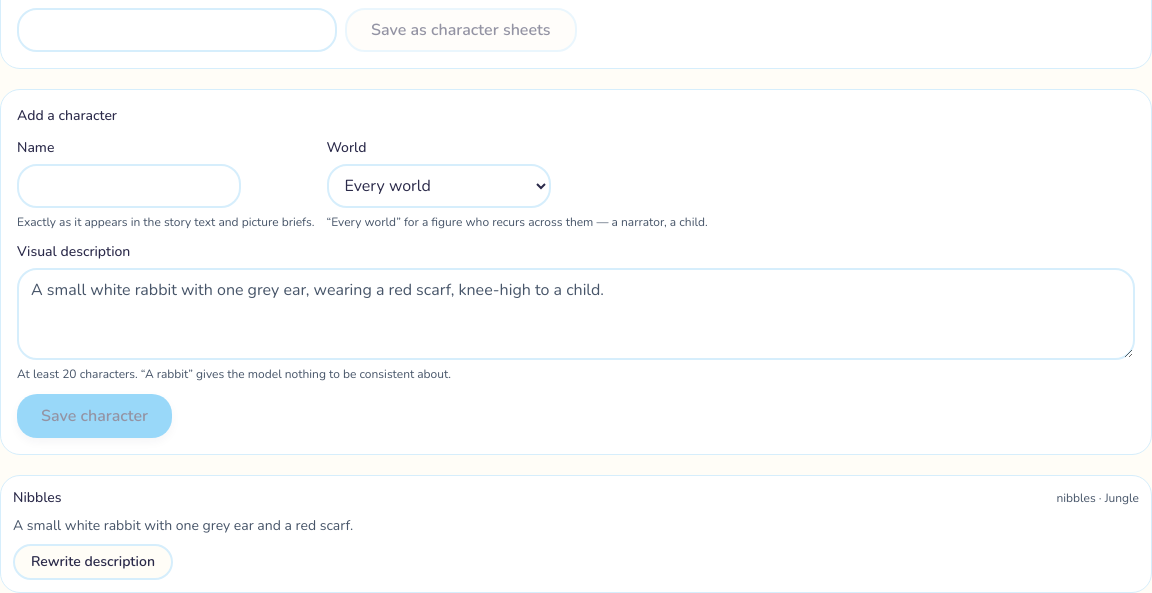
rewriting a description › warns that pictures already drawn keep the old look
(page scrolled)
Click the button "Rewrite description". click: (93, 562)
box: [13, 544, 173, 580]
(page scrolled)
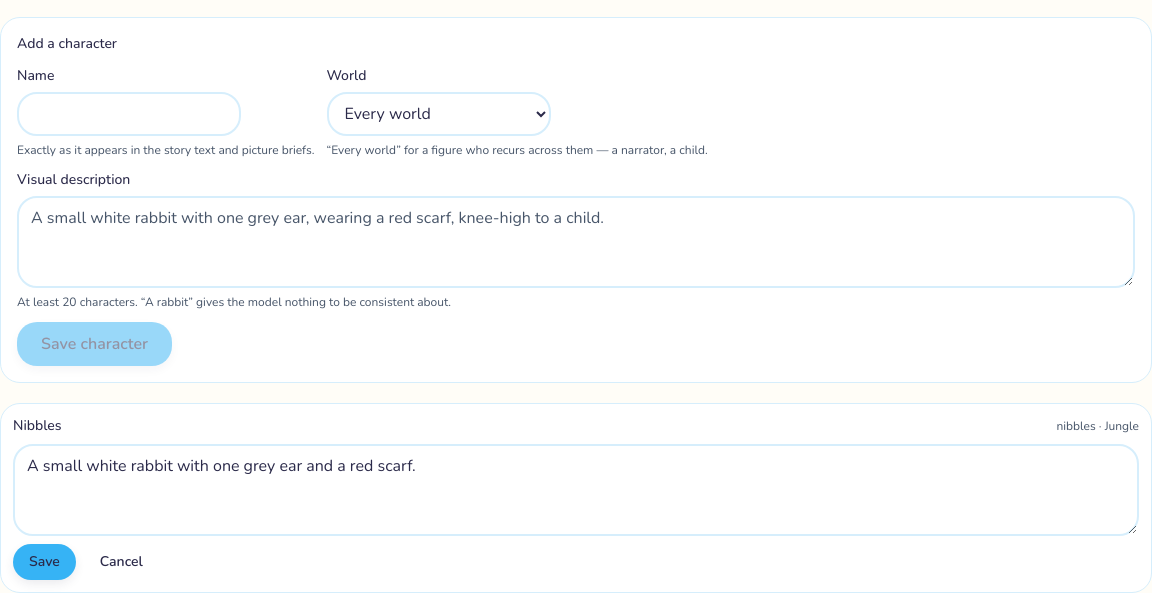
Replace the text in the text box named "Visual description for Nibbles" with "A round brown owl with large round glasses and a green bow tie.". click: (576, 490)
box: [13, 444, 1139, 536]
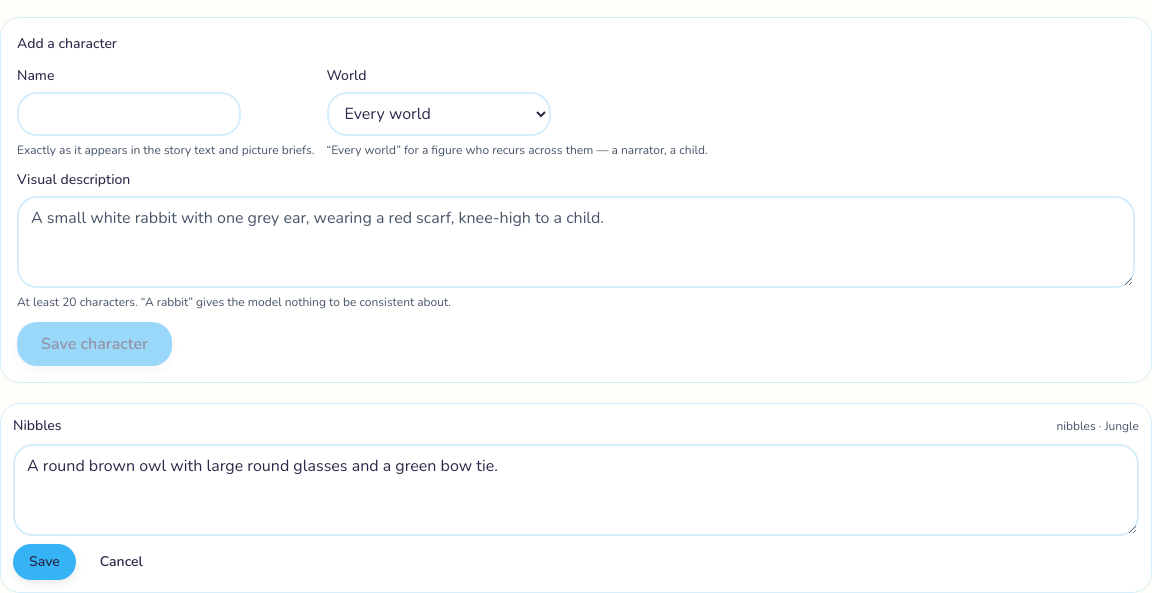
Click the button "Save". click: (44, 562)
box: [13, 544, 76, 580]
(page scrolled)
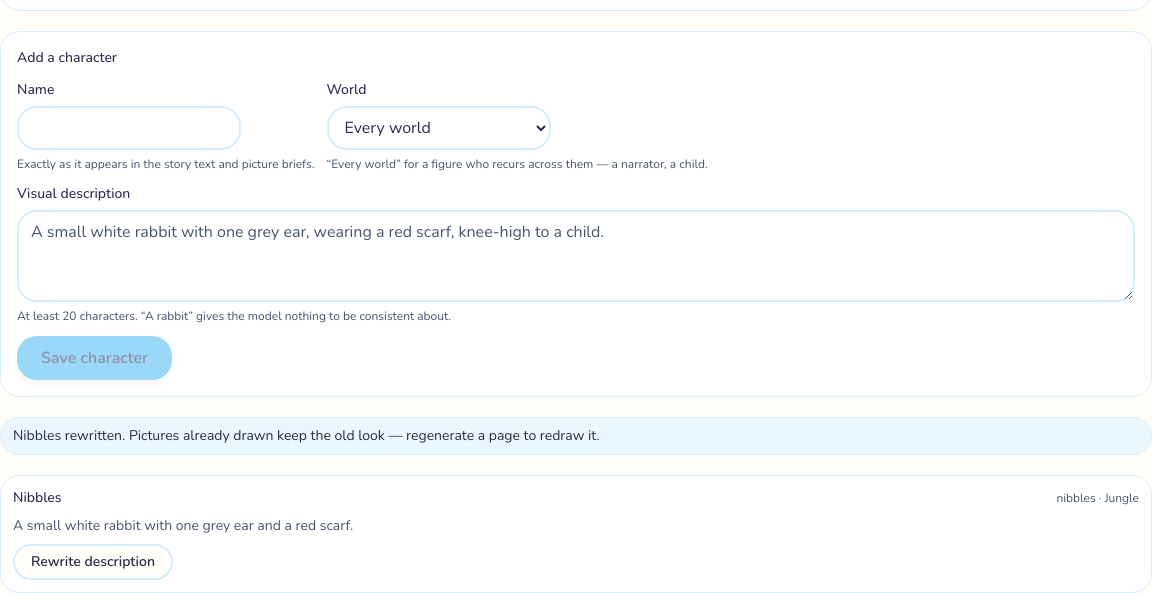
Expected: the message shows "already drawn keep the old look", [13, 426, 600, 445]
